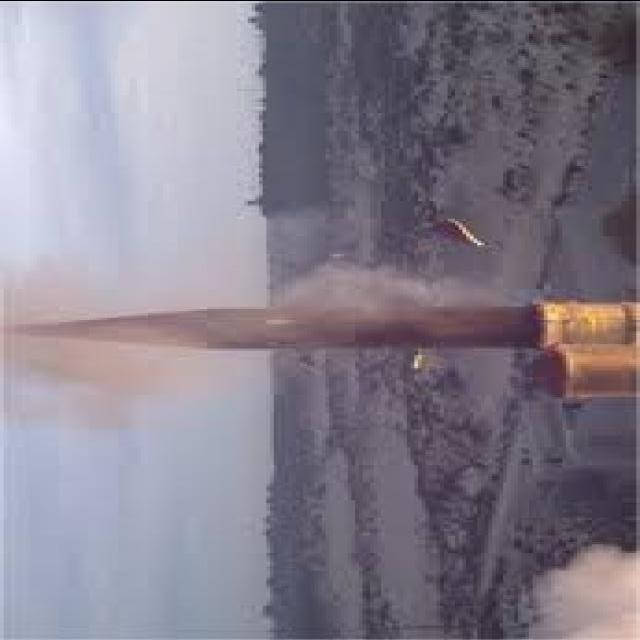missile: (11, 299, 634, 393)
